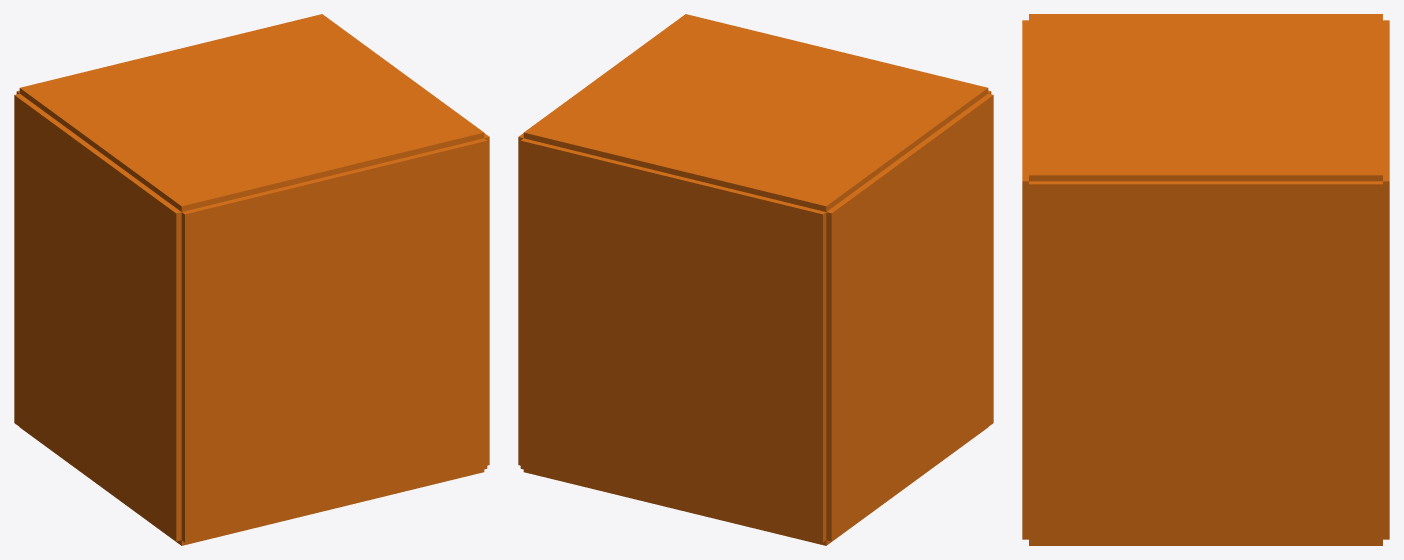
The model's file is SpawnBoxEmitter.fbx.
3 views of the same model, side by side, from view 1: azimuth 30°, elevation 25°; view 2: azimuth 150°, elevation 25°; view 3: azimuth 270°, elevation 25° (orthographic). The views are drawn at different scales.
Parts seen in each view (by area): view 1: SpawnBoxEmitter; view 2: SpawnBoxEmitter; view 3: SpawnBoxEmitter.
Boxes of the visible parts, x1,y1,x2,y2 form: SpawnBoxEmitter: (14, 14, 489, 545); SpawnBoxEmitter: (518, 14, 993, 545); SpawnBoxEmitter: (1022, 14, 1389, 545).
Bounding box in the file's own units: 1806 × 1869 × 1679.
